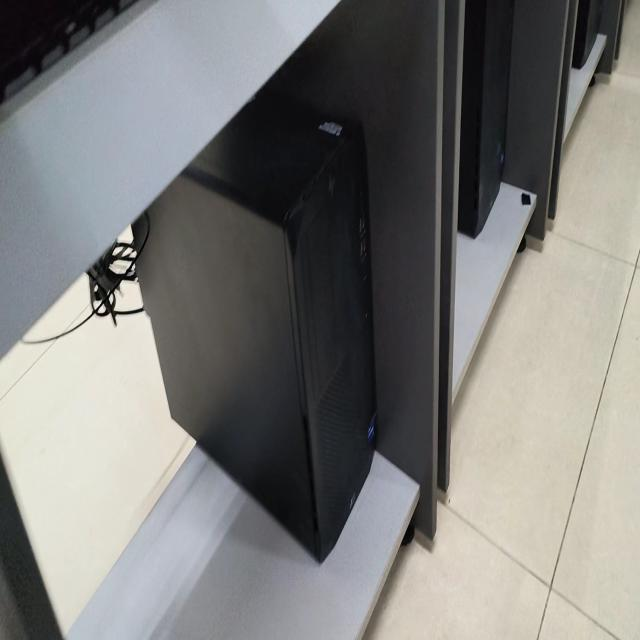Cpu: (132, 83, 377, 562), (458, 0, 514, 238), (573, 0, 599, 69)
Keyboard: (0, 0, 139, 109)
